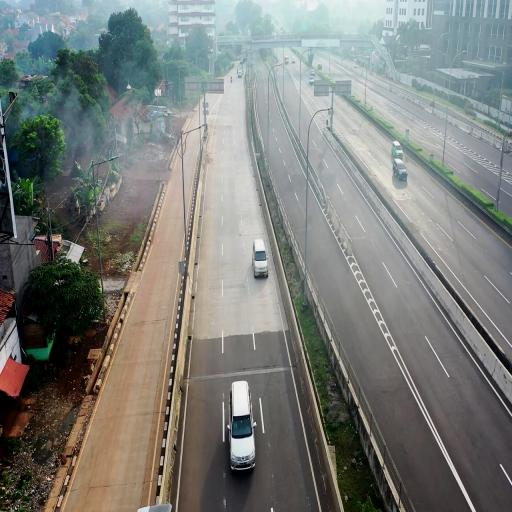vehicle: (229, 381, 256, 472), (252, 238, 269, 278)
